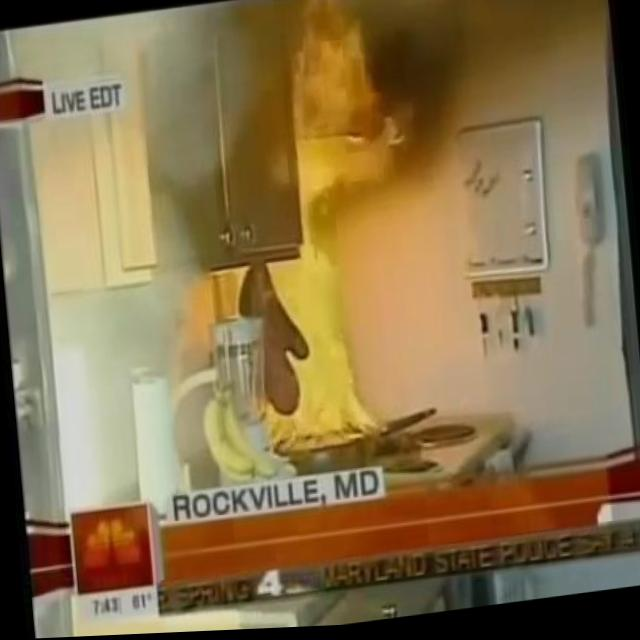fire: (212, 0, 424, 464)
